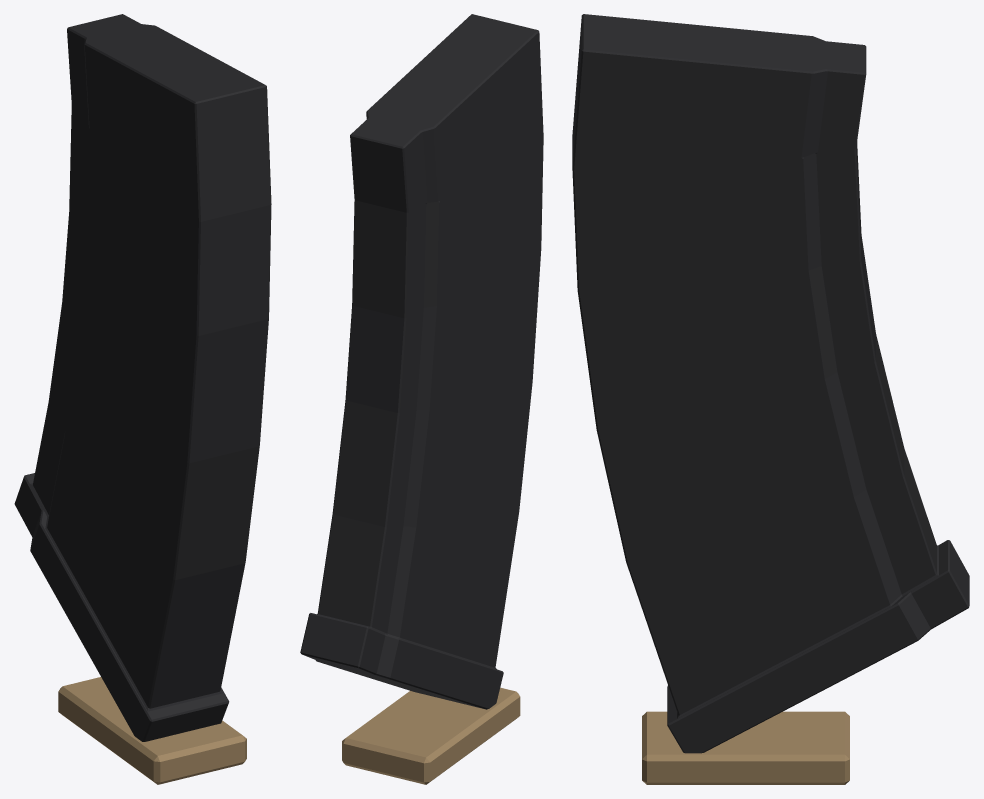
The model's file is rifle_magazine.glb.
3 renders of one model, left to right at view 1: azimuth 30°, elevation 25°; view 2: azimuth 150°, elevation 25°; view 3: azimuth 270°, elevation 25°, orthographic. The views are drawn at different scales.
Parts seen in each view (by area): view 1: rifle_magazine; view 2: rifle_magazine; view 3: rifle_magazine.
Part boxes in pixels (x1,y1,x2,y2): rifle_magazine: (14,14,271,784); rifle_magazine: (300,14,543,784); rifle_magazine: (572,14,969,784).
Size of the model in its own units: 0.0224 by 0.1614 by 0.0794.
